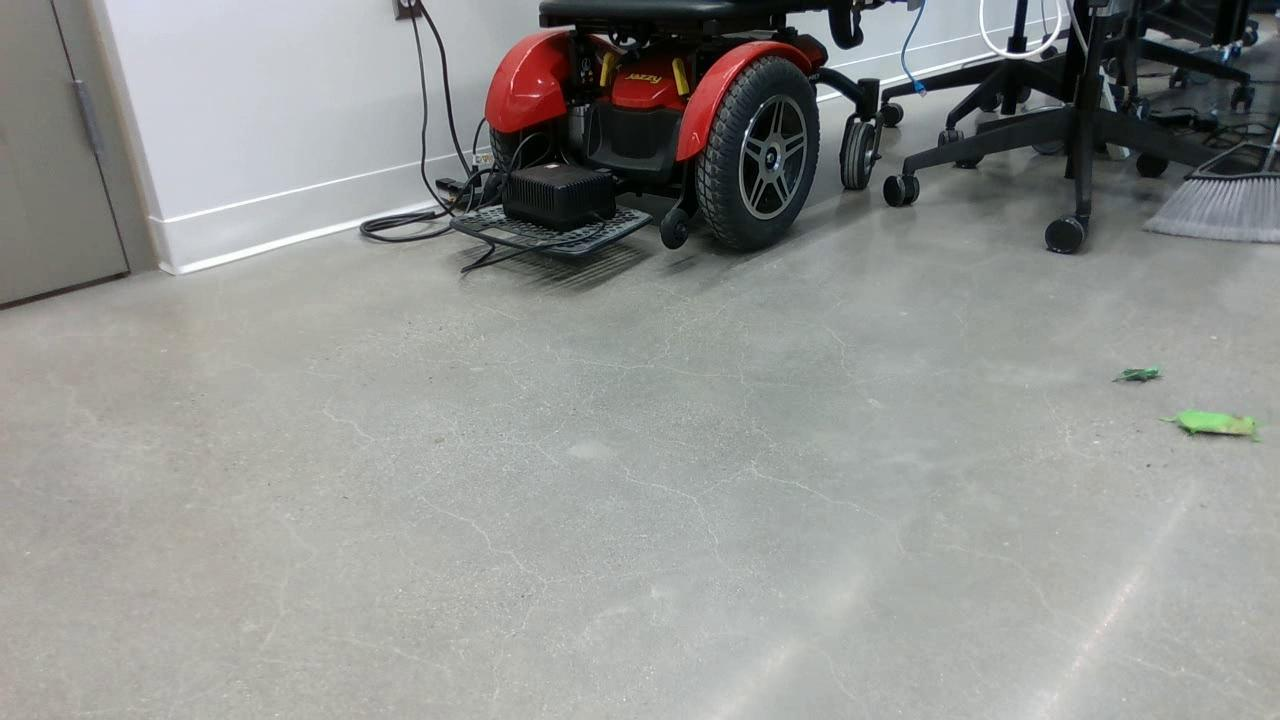grasshopper: (1167, 403, 1266, 449)
